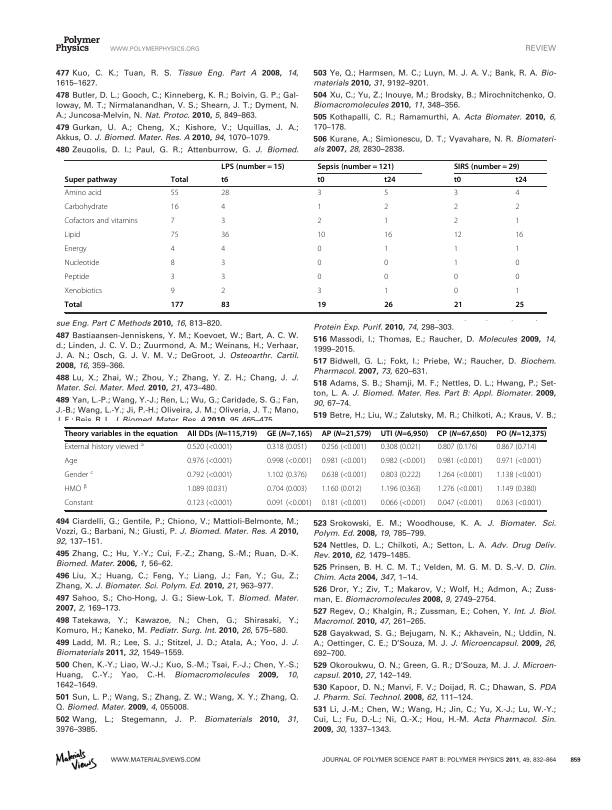borderless: (63, 158, 546, 312), (63, 426, 546, 510)
cell: (64, 430, 179, 439), (63, 441, 145, 453), (64, 216, 139, 226), (316, 162, 395, 171), (186, 430, 258, 439), (453, 162, 520, 171), (220, 162, 285, 171), (64, 175, 118, 185), (186, 443, 233, 453), (186, 457, 233, 467), (495, 457, 542, 467), (186, 471, 233, 481), (495, 471, 542, 481), (186, 499, 233, 509), (495, 499, 542, 509), (495, 430, 547, 439), (321, 443, 367, 453), (266, 457, 312, 467), (321, 457, 367, 467), (380, 457, 426, 467), (437, 457, 483, 467), (321, 471, 367, 481), (437, 471, 483, 481), (437, 485, 483, 495), (266, 499, 312, 509), (321, 499, 367, 509), (380, 499, 426, 509), (437, 499, 483, 509), (321, 430, 372, 439), (437, 430, 488, 439), (64, 202, 109, 212), (380, 430, 429, 439), (266, 430, 313, 439), (266, 443, 308, 453), (380, 443, 422, 453), (437, 443, 479, 453), (495, 443, 537, 453), (266, 471, 308, 481), (380, 471, 422, 481), (186, 485, 228, 495), (266, 485, 308, 495), (380, 485, 422, 495), (495, 485, 537, 495), (321, 485, 362, 495), (64, 286, 103, 296), (64, 188, 102, 198), (64, 258, 100, 268), (64, 469, 94, 481), (64, 499, 94, 509), (64, 483, 88, 495), (64, 272, 90, 282), (64, 244, 87, 254), (170, 175, 189, 185), (64, 300, 83, 310), (64, 230, 81, 240), (383, 175, 397, 185), (514, 175, 528, 185), (170, 300, 184, 310), (64, 457, 78, 467), (220, 300, 231, 310), (316, 300, 327, 310), (383, 300, 394, 310), (514, 300, 525, 310), (220, 188, 230, 198), (220, 230, 230, 240), (316, 230, 326, 240), (383, 230, 393, 240), (453, 230, 463, 240), (514, 230, 524, 240), (453, 300, 463, 310), (220, 175, 229, 185), (316, 175, 325, 185), (453, 175, 462, 185), (170, 188, 179, 198), (170, 202, 179, 212), (170, 230, 179, 240), (316, 188, 322, 198), (383, 188, 389, 198), (453, 188, 459, 198), (514, 188, 520, 198), (220, 202, 226, 212), (316, 202, 322, 212), (383, 202, 389, 212), (453, 202, 459, 212), (514, 202, 520, 212), (170, 216, 176, 226), (220, 216, 226, 226), (316, 216, 322, 226), (383, 216, 389, 226), (453, 216, 459, 226), (514, 216, 520, 226), (170, 244, 176, 254), (220, 244, 226, 254), (316, 244, 322, 254), (383, 244, 389, 254), (453, 244, 459, 254), (514, 244, 520, 254), (170, 258, 176, 268), (220, 258, 226, 268), (316, 258, 322, 268), (383, 258, 389, 268), (453, 258, 459, 268), (514, 258, 520, 268), (170, 272, 176, 282), (220, 272, 226, 282), (316, 272, 322, 282), (383, 272, 389, 282), (453, 272, 459, 282), (514, 272, 520, 282), (170, 286, 176, 296), (220, 286, 226, 296), (316, 286, 322, 296), (383, 286, 389, 296), (453, 286, 459, 296), (514, 286, 520, 296)
